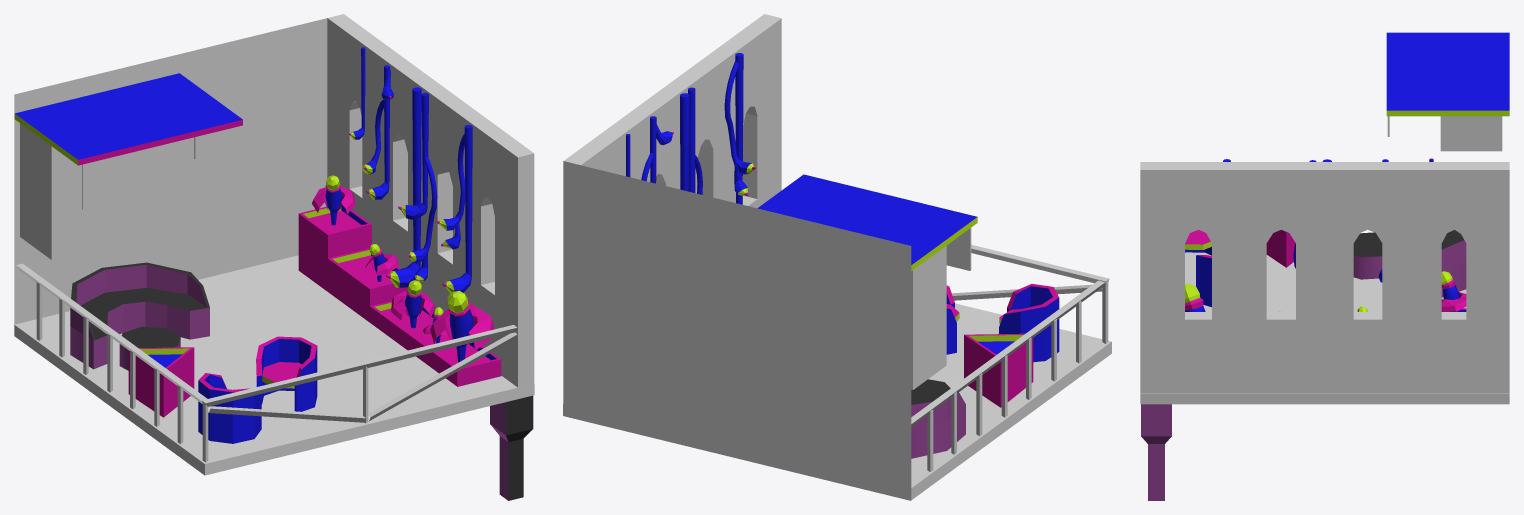
Rendered from Balcon.FBX.
3 views of the same model, side by side, from view 1: azimuth 30°, elevation 25°; view 2: azimuth 150°, elevation 25°; view 3: azimuth 270°, elevation 25° (orthographic). The views are drawn at different scales.
Parts seen in each view (by area): view 1: mur porte balcon, mur fenetres balcon, sol balcon, Box036, bac plante zizi balcon, rambarde balcon, canape circulaire balcon, plante sein grimpante, Box037, fauteuill balcon1, balcon, mur avec ouvertures balcon (+5 smaller); view 2: mur porte balcon, mur fenetres balcon, sol balcon, Box036, rambarde balcon, Box037, plante sein grimpante, bac a fleur triangle balcon, fauteuill balcon2, canape circulaire balcon, fauteuill balcon1, table basse balcon; view 3: mur fenetres balcon, Box036, sol balcon, Box037, mur avec ouvertures balcon, table basse balcon, canape circulaire balcon, bac a fleur triangle balcon, balcon, fauteuill balcon1, fauteuill balcon2, plante bite.
Part boxes in pixels (x1,y1,x2,y2): mur porte balcon: (14, 18, 327, 324); mur fenetres balcon: (327, 14, 534, 387); sol balcon: (14, 255, 534, 475); Box036: (14, 73, 242, 165); bac plante zizi balcon: (298, 204, 501, 386); rambarde balcon: (16, 263, 517, 462); canape circulaire balcon: (70, 262, 209, 369); plante sein grimpante: (349, 47, 472, 293); Box037: (20, 123, 239, 259); fauteuill balcon1: (256, 336, 317, 411); balcon: (312, 175, 447, 343); mur avec ouvertures balcon: (490, 395, 533, 500); mur porte balcon: (563, 161, 911, 500); mur fenetres balcon: (564, 14, 781, 208); sol balcon: (563, 303, 1111, 499); Box036: (757, 174, 977, 270); rambarde balcon: (911, 244, 1109, 471); Box037: (911, 228, 971, 389); plante sein grimpante: (626, 53, 755, 204); bac a fleur triangle balcon: (964, 333, 1033, 407); fauteuill balcon2: (999, 284, 1059, 362); canape circulaire balcon: (911, 392, 965, 458); fauteuill balcon1: (946, 285, 959, 354); table basse balcon: (911, 379, 950, 402); mur fenetres balcon: (1140, 162, 1509, 392); Box036: (1386, 32, 1509, 116); sol balcon: (1140, 252, 1509, 404); Box037: (1387, 116, 1502, 151); mur avec ouvertures balcon: (1141, 404, 1171, 500); table basse balcon: (1353, 232, 1382, 279); canape circulaire balcon: (1441, 230, 1466, 297); bac a fleur triangle balcon: (1266, 230, 1295, 267); balcon: (1279, 271, 1466, 311); fauteuill balcon1: (1196, 255, 1211, 307); fauteuill balcon2: (1185, 230, 1211, 255); plante bite: (1185, 283, 1205, 311).
Bounding box in the file's own units: 600 × 600 × 600.
